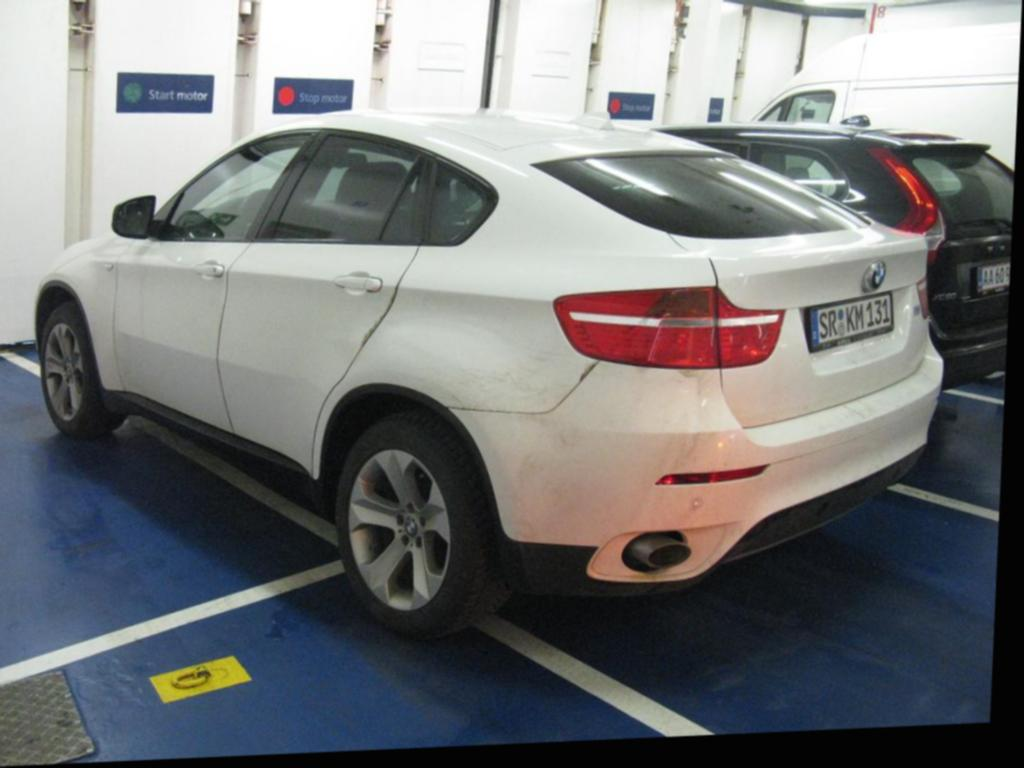License_Plate: (803, 291, 897, 350), (975, 260, 1010, 296)
